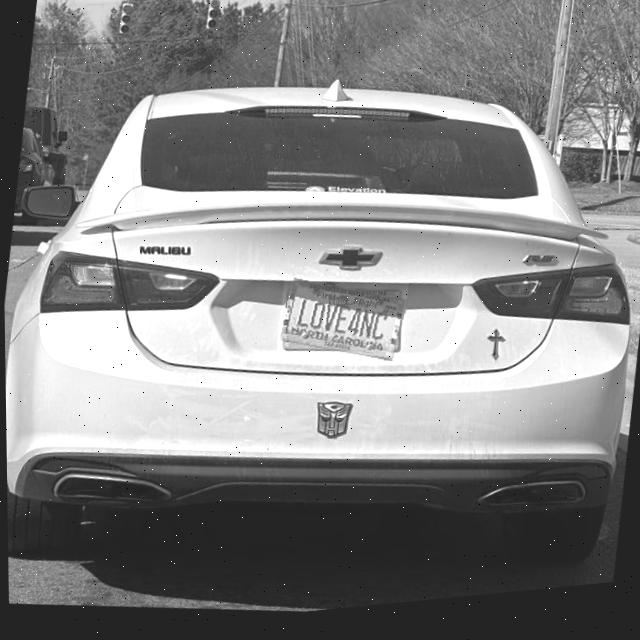LicensePlate: (277, 285, 405, 367)
